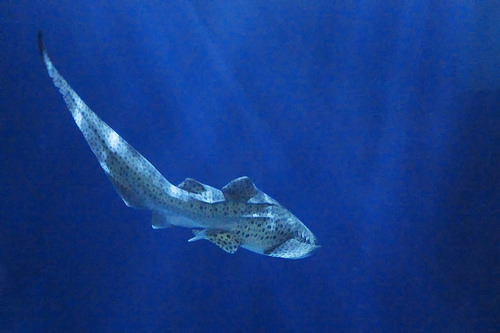shark: (25, 18, 327, 271)
